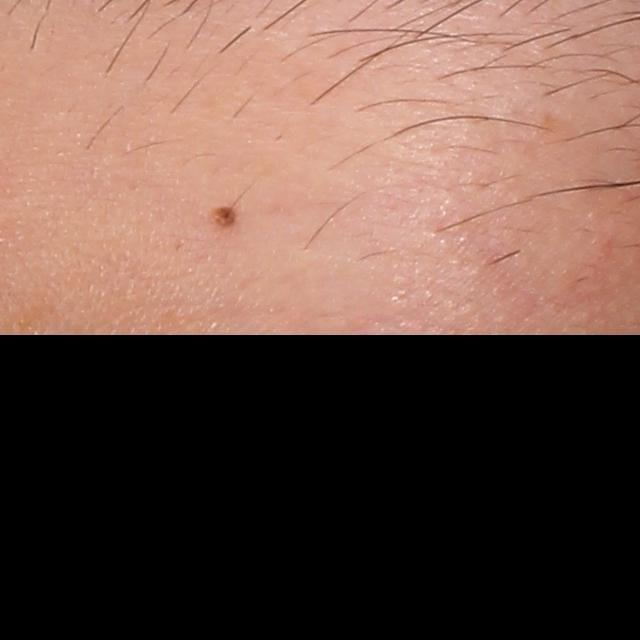nevus: (205, 199, 239, 234)
